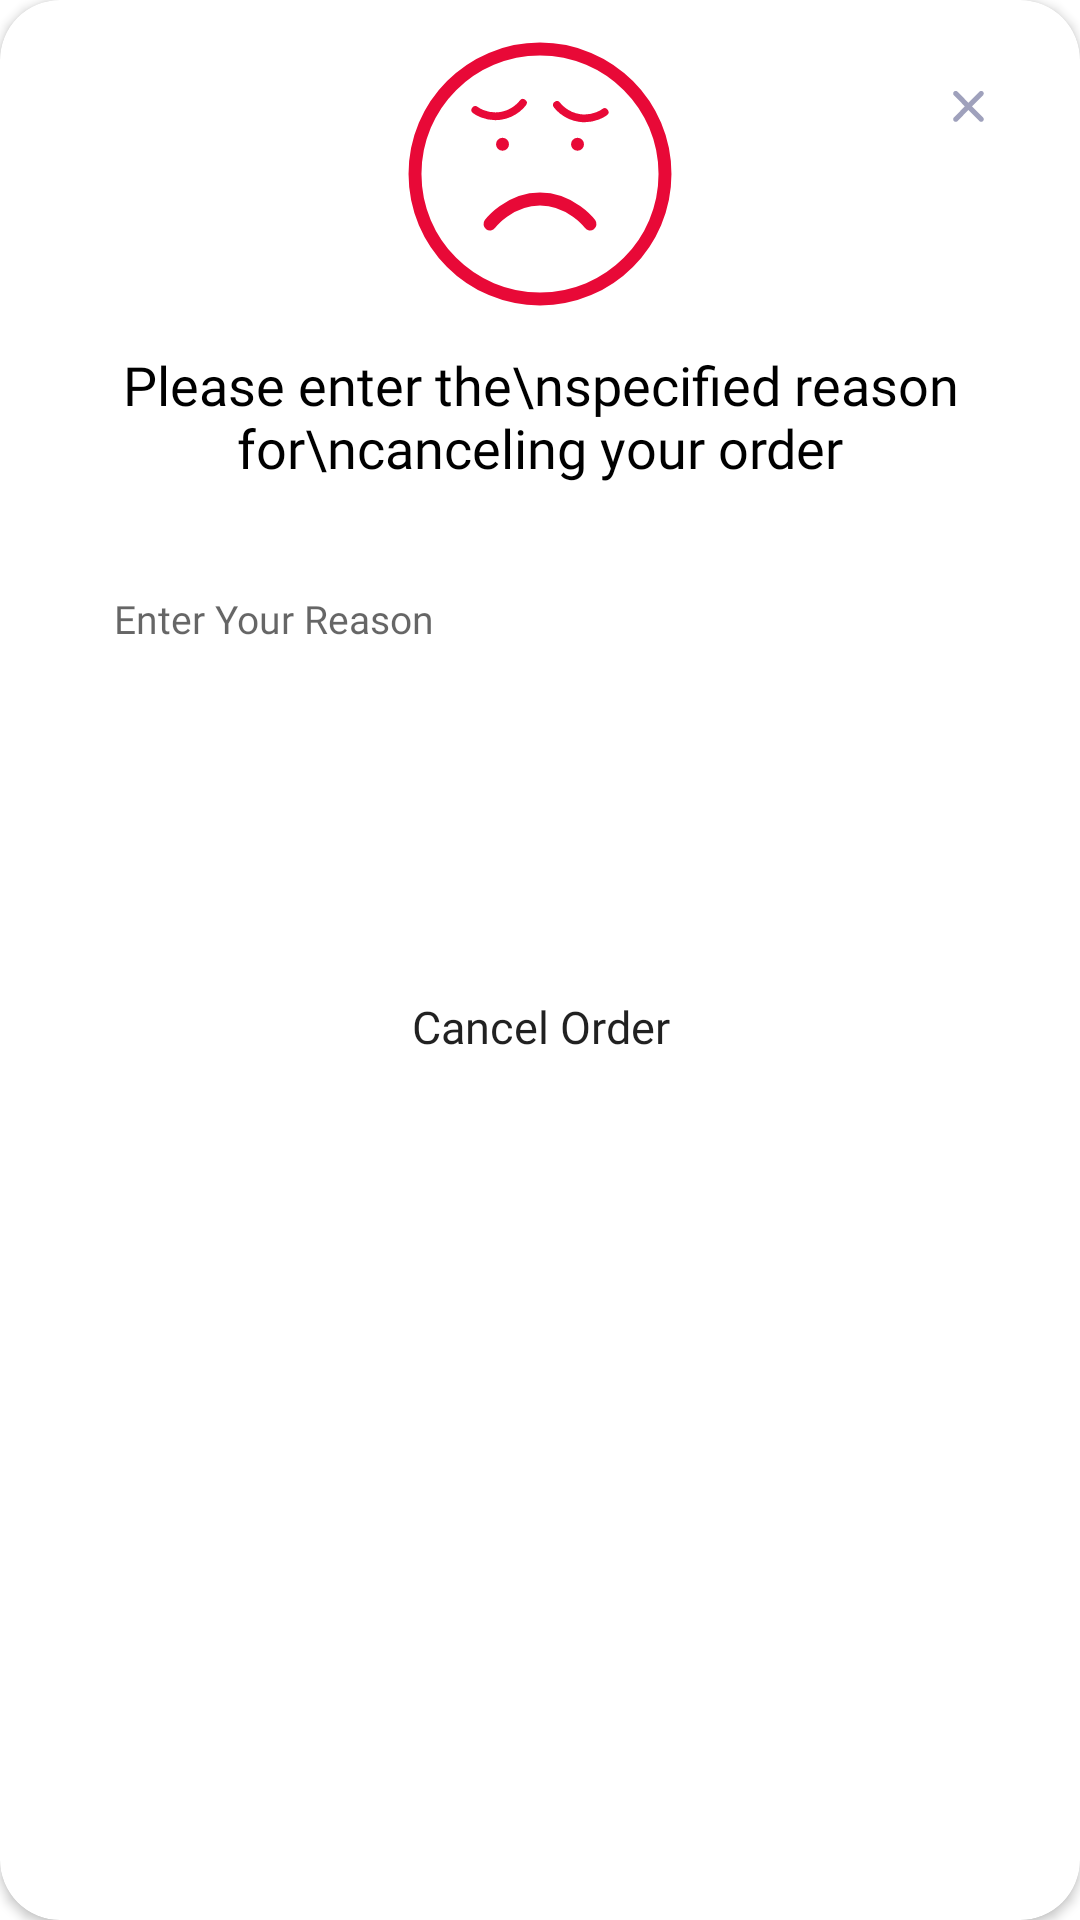

Where to tap for icons on this 1080w x 1920h app screen, as (x=x, y=y):
close: (x=968, y=106)
frown: (x=540, y=174)
